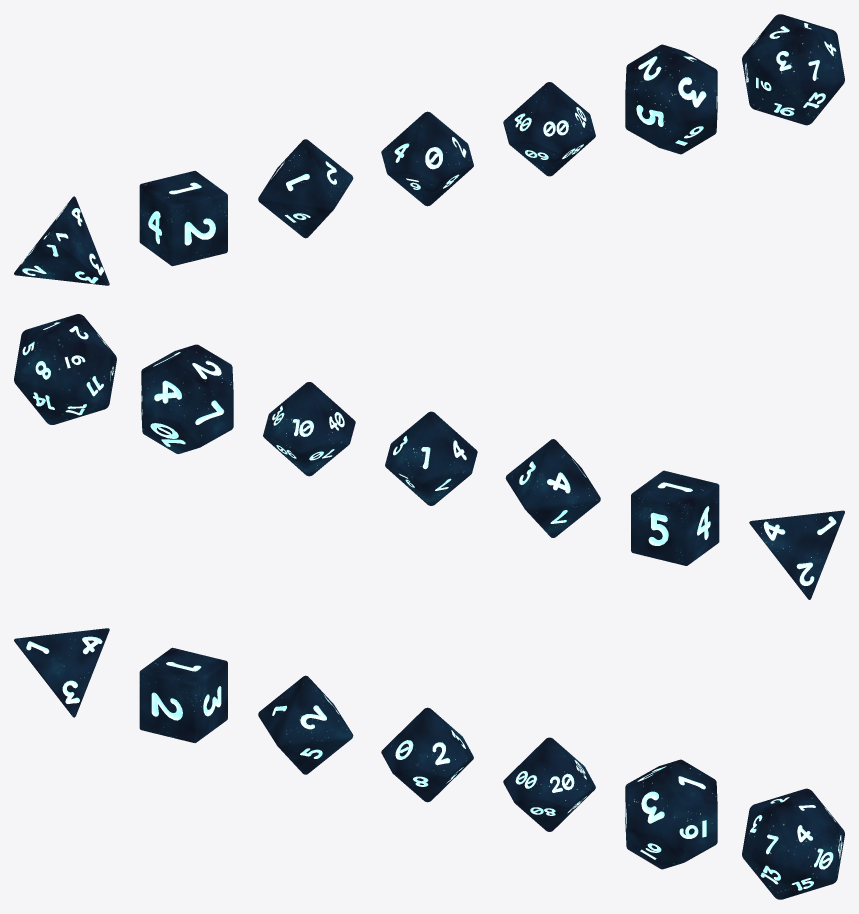
The model's file is abyssal.glb.
3 views of the same model, one above another, from view 1: azimuth 30°, elevation 25°; view 2: azimuth 150°, elevation 25°; view 3: azimuth 330°, elevation 25° (orthographic).
Parts seen in each view (by area): view 1: d20, d12, d6, d100, d10, d8, d4; view 2: d20, d12, d6, d100, d10, d8, d4; view 3: d20, d12, d6, d8, d10, d100, d4.
Part boxes in pixels (x1,y1,x2,y2): d20: (742,14,844,125); d12: (625,44,717,154); d6: (139,171,227,266); d100: (503,82,595,176); d10: (381,111,473,206); d8: (258,139,353,238); d4: (14,196,109,285); d20: (14,314,116,424); d12: (141,344,233,453); d6: (631,470,719,565); d100: (263,382,355,476); d10: (385,411,477,505); d8: (505,439,600,537); d4: (749,510,844,599); d20: (742,788,844,899); d12: (625,759,717,869); d6: (139,647,227,742); d8: (258,675,353,774); d10: (381,707,473,802); d100: (503,737,595,831); d4: (14,628,109,717).
Size of the model in its own units: 21.14 by 2.47 by 2.47.
Materials: 14 (7 with a texture image).
